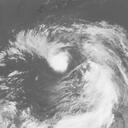cyclone: (38, 36, 96, 95)
